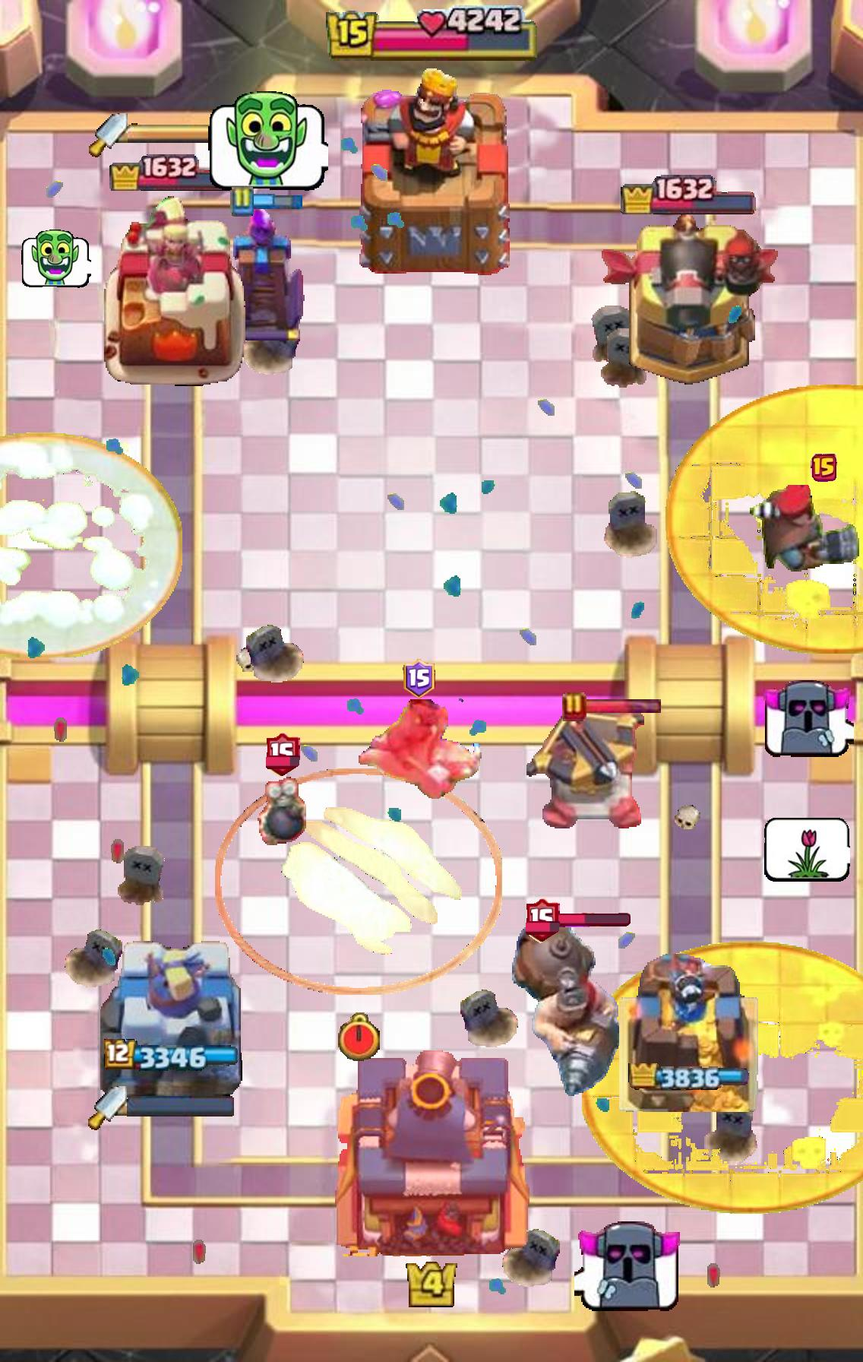bar: (583, 698, 662, 715), (556, 912, 631, 927)
bar-level: (525, 898, 560, 943), (266, 732, 300, 778), (403, 659, 436, 698), (810, 454, 837, 482), (562, 692, 586, 722)
